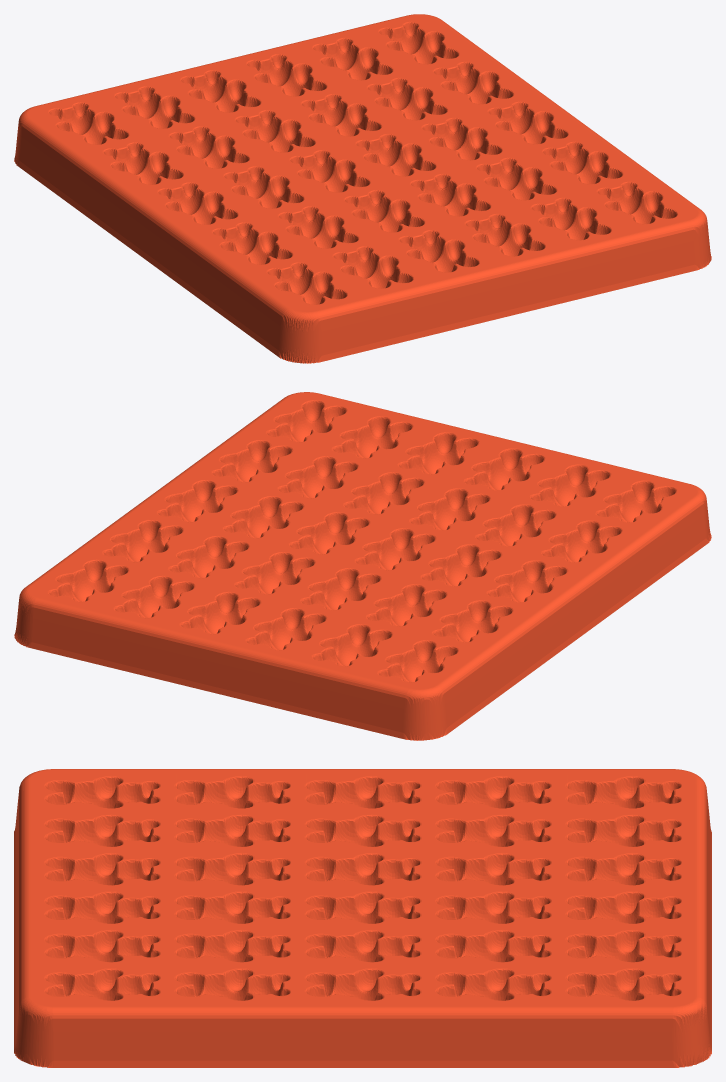
Rendered from mold.glb.
3 renders of one model, top to bottom at view 1: azimuth 30°, elevation 25°; view 2: azimuth 150°, elevation 25°; view 3: azimuth 270°, elevation 25°, orthographic. The views are drawn at different scales.
Visible parts, largest first — view 1: geometry_0; view 2: geometry_0; view 3: geometry_0.
Part boxes in pixels (x1,y1,x2,y2): geometry_0: [14, 14, 711, 363]; geometry_0: [14, 392, 711, 740]; geometry_0: [14, 769, 711, 1067].
Bounding box in the file's own units: 0.1341 × 0.0136 × 0.1581.
